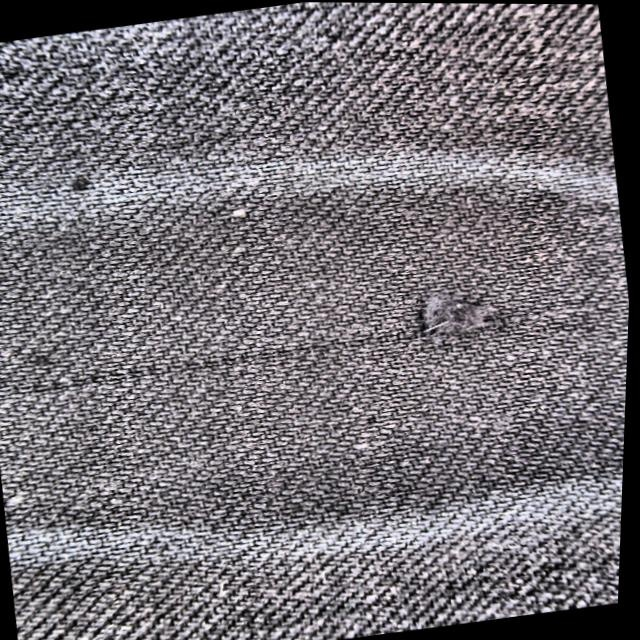Hole: (6, 265, 542, 430), (12, 295, 539, 406)
